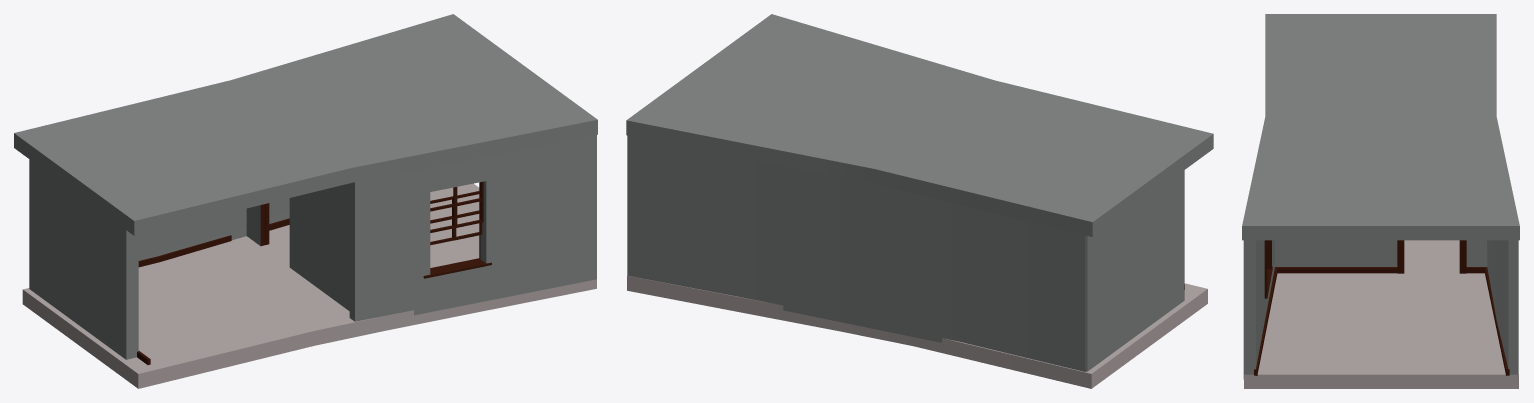
The model's file is NanasHouse 1.2.fbx.
3 views of the same model, side by side, from view 1: azimuth 30°, elevation 25°; view 2: azimuth 150°, elevation 25°; view 3: azimuth 270°, elevation 25° (orthographic). The views are drawn at different scales.
Visible parts, largest first — view 1: Ceiling, Window_Wall, Floor, Kitchen_Wall, Threshold_Wall, Long_Wall, Mullions2, Mullions1, Kitchen_Baseboard1, Window_Sill; view 2: Ceiling, Long_Wall, Kitchen_Wall, Floor; view 3: Ceiling, Floor, Threshold_Wall, Long_Wall, Window_Wall, Baseboard3, Threshold_Casing, Baseboard2, Baseboard1, Window_Casing.
Part boxes in pixels (<box>): Ceiling: <box>14,14,597,235</box>; Window_Wall: <box>349,135,596,321</box>; Floor: <box>22,183,596,388</box>; Kitchen_Wall: <box>29,159,138,359</box>; Threshold_Wall: <box>246,183,349,310</box>; Long_Wall: <box>138,198,289,260</box>; Mullions2: <box>430,191,482,245</box>; Mullions1: <box>430,181,483,232</box>; Kitchen_Baseboard1: <box>138,235,231,267</box>; Window_Sill: <box>423,258,491,278</box>; Ceiling: <box>626,14,1213,237</box>; Long_Wall: <box>627,135,1086,371</box>; Kitchen_Wall: <box>1086,170,1184,371</box>; Floor: <box>627,275,1207,388</box>; Ceiling: <box>1242,14,1519,240</box>; Floor: <box>1244,240,1518,388</box>; Threshold_Wall: <box>1275,240,1487,266</box>; Long_Wall: <box>1487,240,1518,374</box>; Window_Wall: <box>1243,240,1274,379</box>; Baseboard3: <box>1275,267,1397,273</box>; Threshold_Casing: <box>1397,240,1466,273</box>; Baseboard2: <box>1254,268,1277,375</box>; Baseboard1: <box>1485,268,1509,375</box>; Window_Casing: <box>1264,240,1271,296</box>.
Size of the model in its own units: 178 by 64.02 by 98.78.
